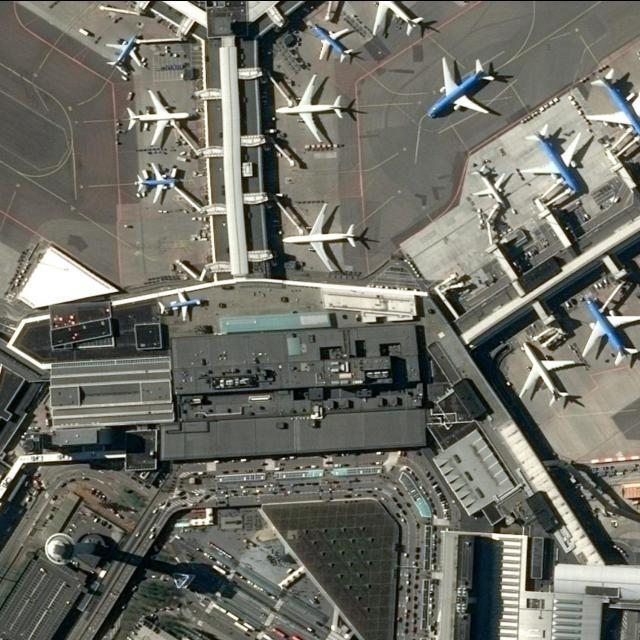Aircraft: (281, 202, 359, 275), (272, 73, 348, 145), (427, 55, 499, 125), (524, 122, 588, 196), (585, 66, 640, 148), (582, 295, 640, 371), (519, 341, 581, 409), (125, 89, 193, 147), (360, 1, 428, 41), (308, 19, 359, 64), (135, 160, 183, 204), (106, 32, 147, 74), (471, 165, 511, 207), (159, 291, 205, 323)
